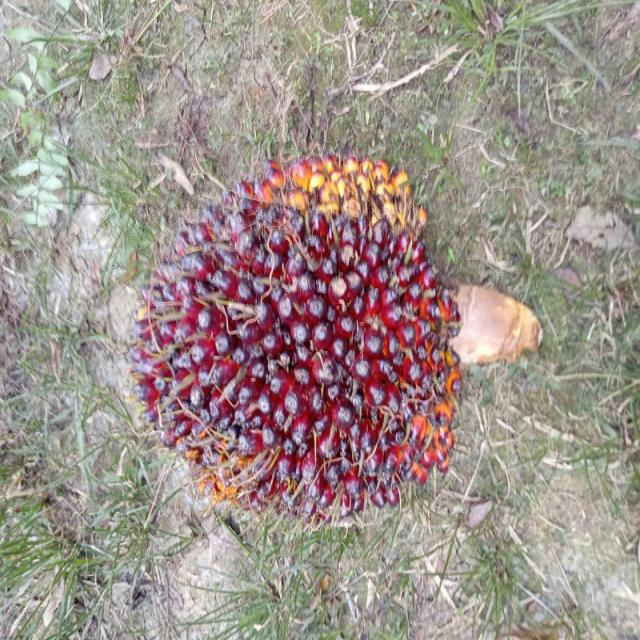fraksi 1: (85, 107, 535, 552)
